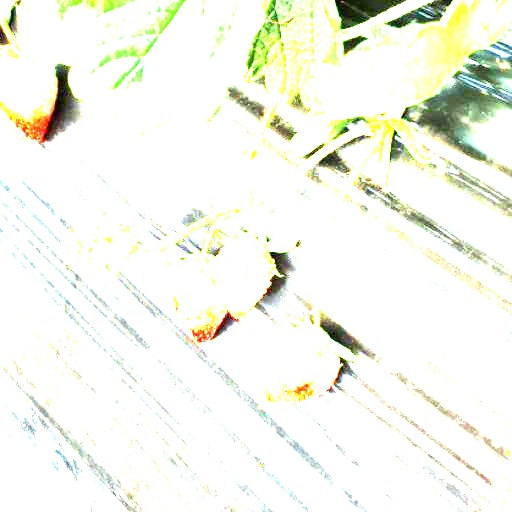Powdery Mildew Fruit: (261, 324, 340, 405), (172, 253, 228, 345), (216, 238, 276, 320)
